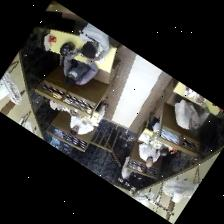person: (174, 94, 208, 134), (63, 49, 98, 85), (69, 103, 108, 135), (79, 23, 109, 61), (139, 142, 160, 166), (121, 155, 132, 185), (151, 116, 159, 137)
